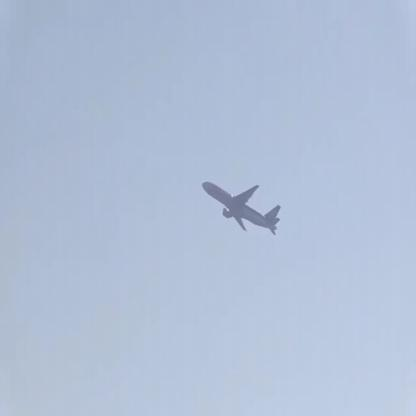CIV_Plane: (200, 176, 282, 236)
